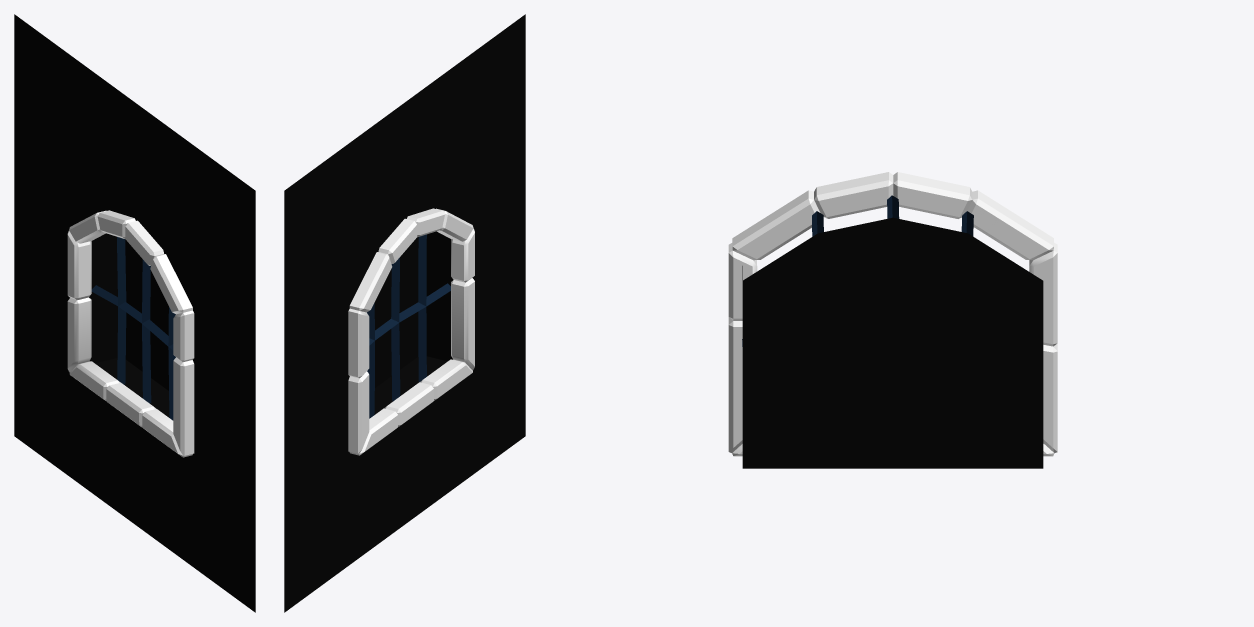
File: standard_window_4.FBX
3 views of the same model, side by side, from view 1: azimuth 30°, elevation 25°; view 2: azimuth 150°, elevation 25°; view 3: azimuth 270°, elevation 25° (orthographic). The views are drawn at different scales.
Visible parts, largest first — view 1: standard_window_4; view 2: standard_window_4; view 3: standard_window_4.
Part boxes in pixels (x1,y1,x2,y2): standard_window_4: (14,14,255,612); standard_window_4: (284,14,525,612); standard_window_4: (728,172,1057,468).
Bounding box in the file's own units: 36.88 × 291 × 302.
